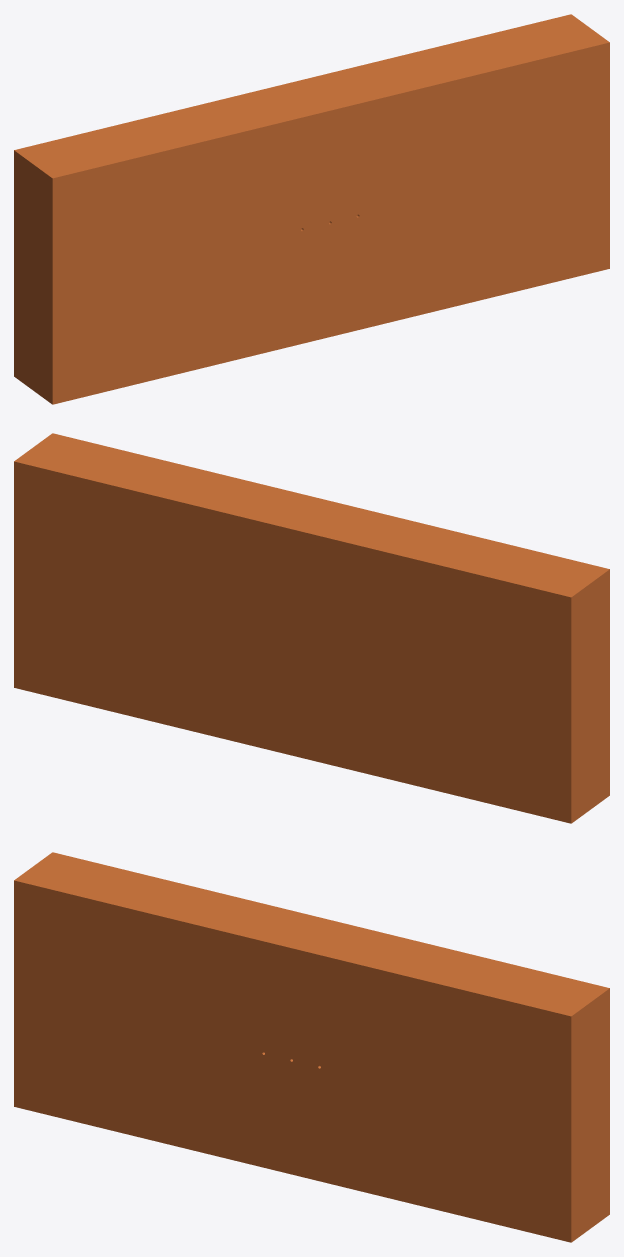
The model's file is table.obj.
3 views of the same model, one above another, from view 1: azimuth 30°, elevation 25°; view 2: azimuth 150°, elevation 25°; view 3: azimuth 330°, elevation 25° (orthographic).
Visible parts, largest first — view 1: Cube; view 2: Cube; view 3: Cube.
Boxes of the visible parts, box(x1,y1,x2,y2) form: Cube: box(14, 14, 609, 404); Cube: box(14, 433, 609, 823); Cube: box(14, 852, 609, 1242).
Bounding box in the file's own units: 0.5 × 0.194 × 0.06.
